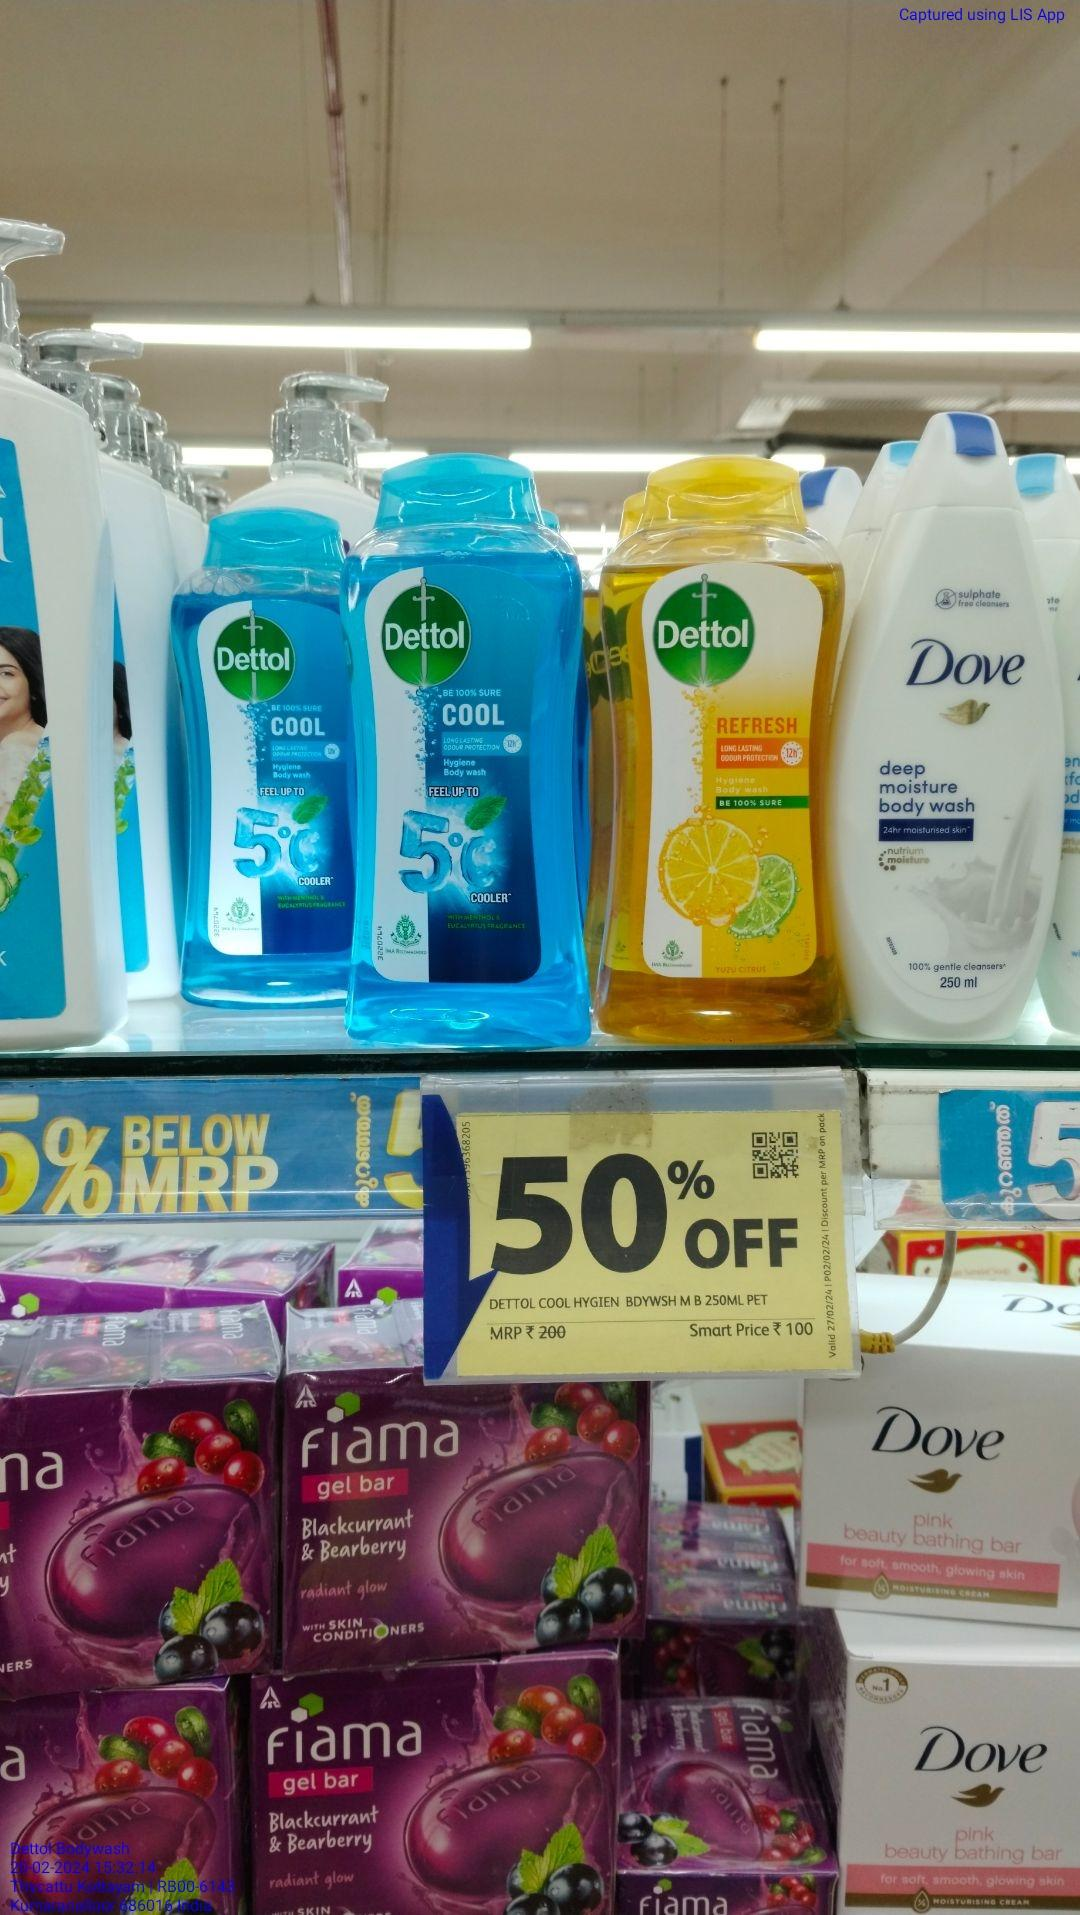Dettol_Bodywash_Cool: (363, 472, 589, 1048), (175, 498, 350, 1007)
Dettol_Bodywash_Refresh: (608, 467, 845, 1051)
Dove_Deep_Moisture_Body_Wash_250ML: (862, 427, 1043, 1034)
